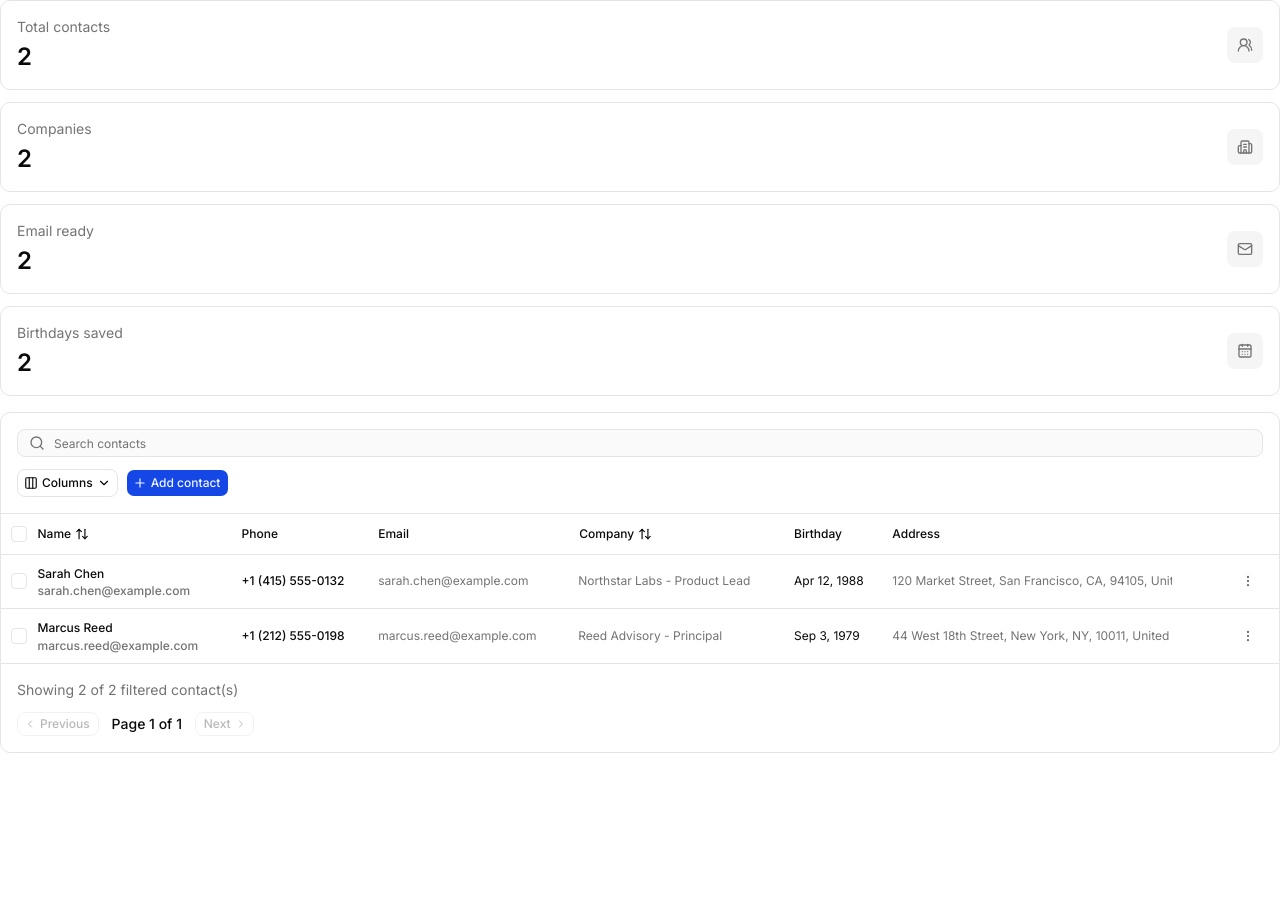
Test: DataTable › supports selecting all visible contacts and bulk deleting them
The image size is (1280, 900).
Step 1. Click the checkbox named "select all contacts on this page" → (19, 534), box x1=11 y1=526 x2=27 y2=542
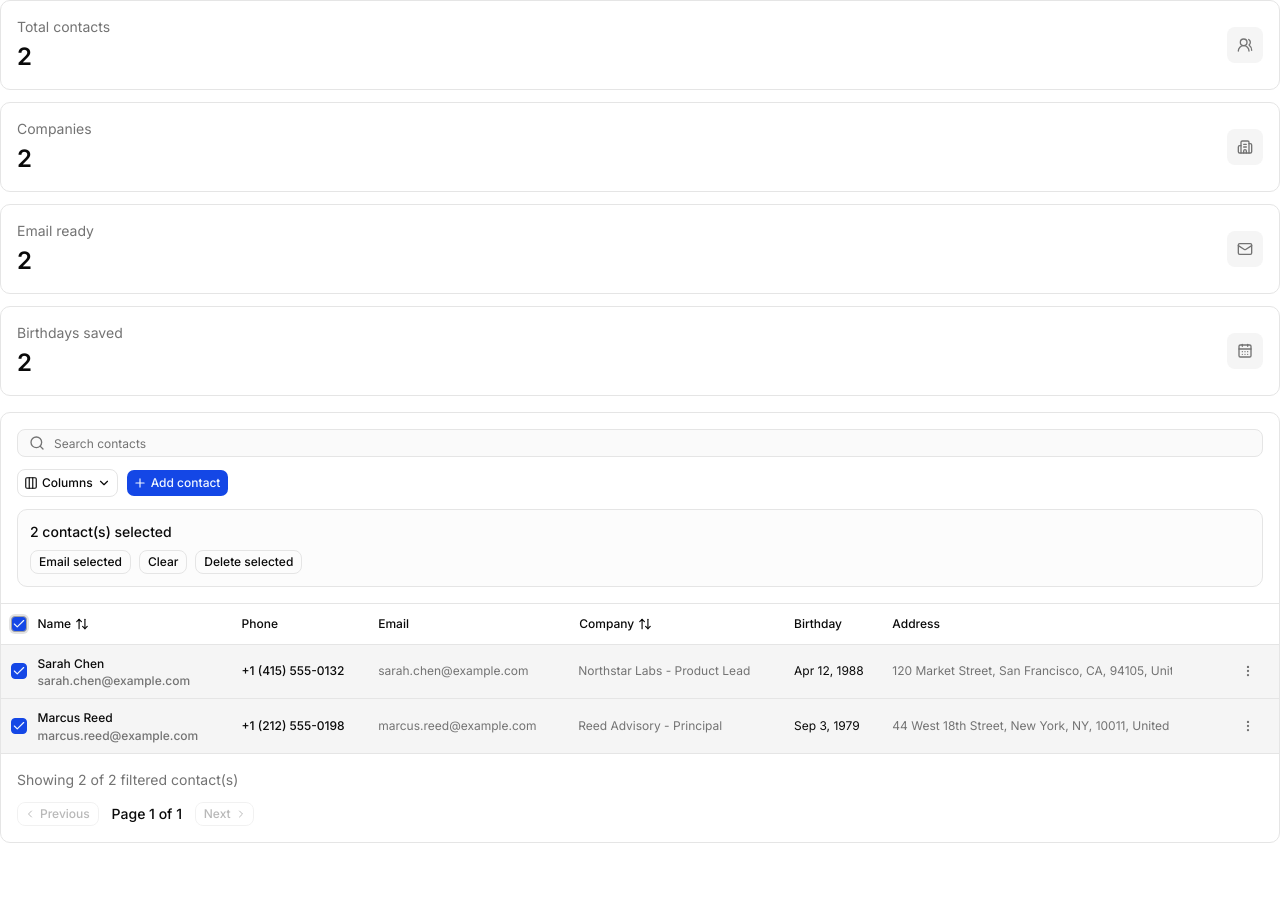
Check: the text "2 contact(s) selected" is shown, box x1=30 y1=523 x2=172 y2=540
Step 2. Click the button "Delete selected" → (249, 562), box x1=195 y1=550 x2=302 y2=574
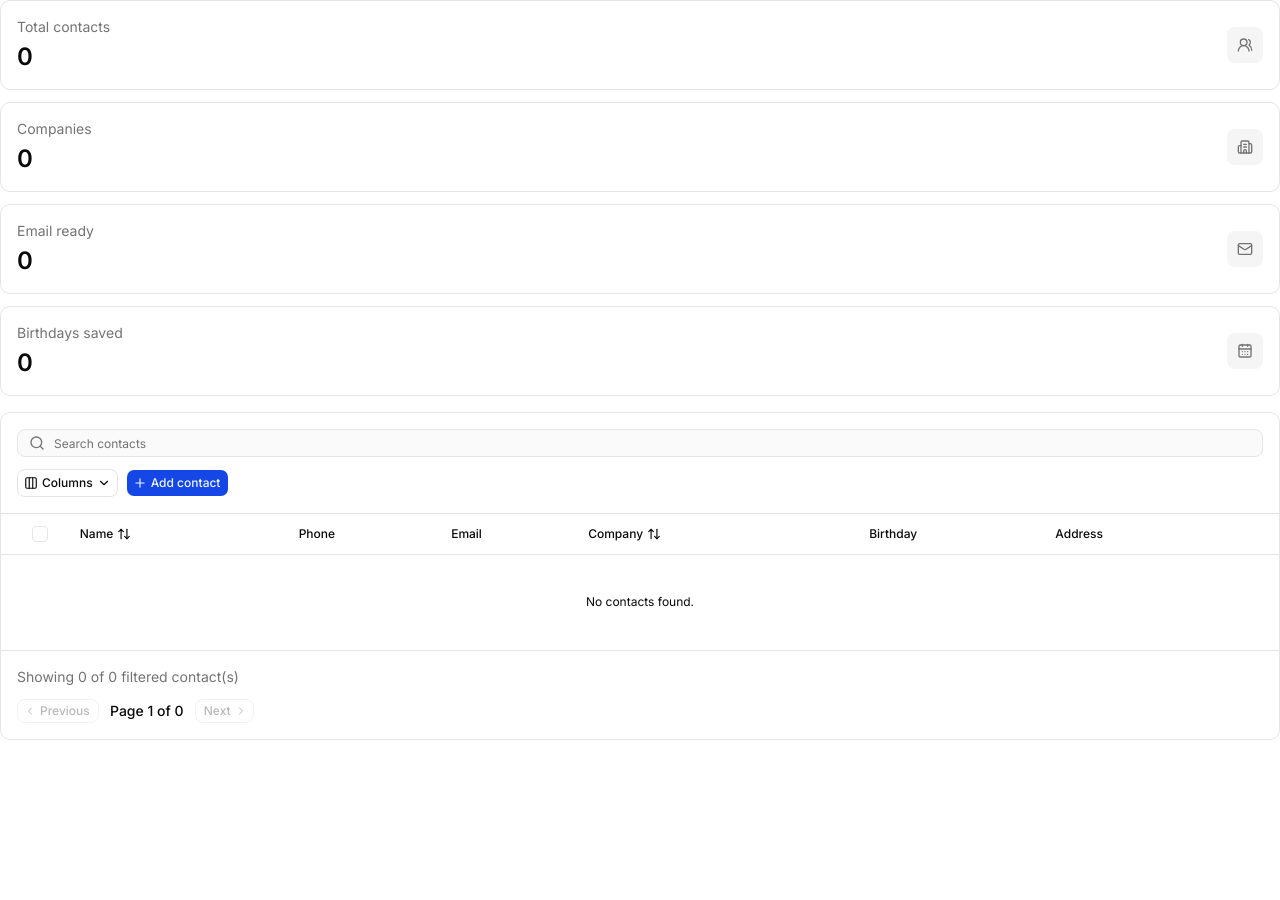
Check: the text "No contacts found." is shown, box x1=1 y1=554 x2=1279 y2=650
